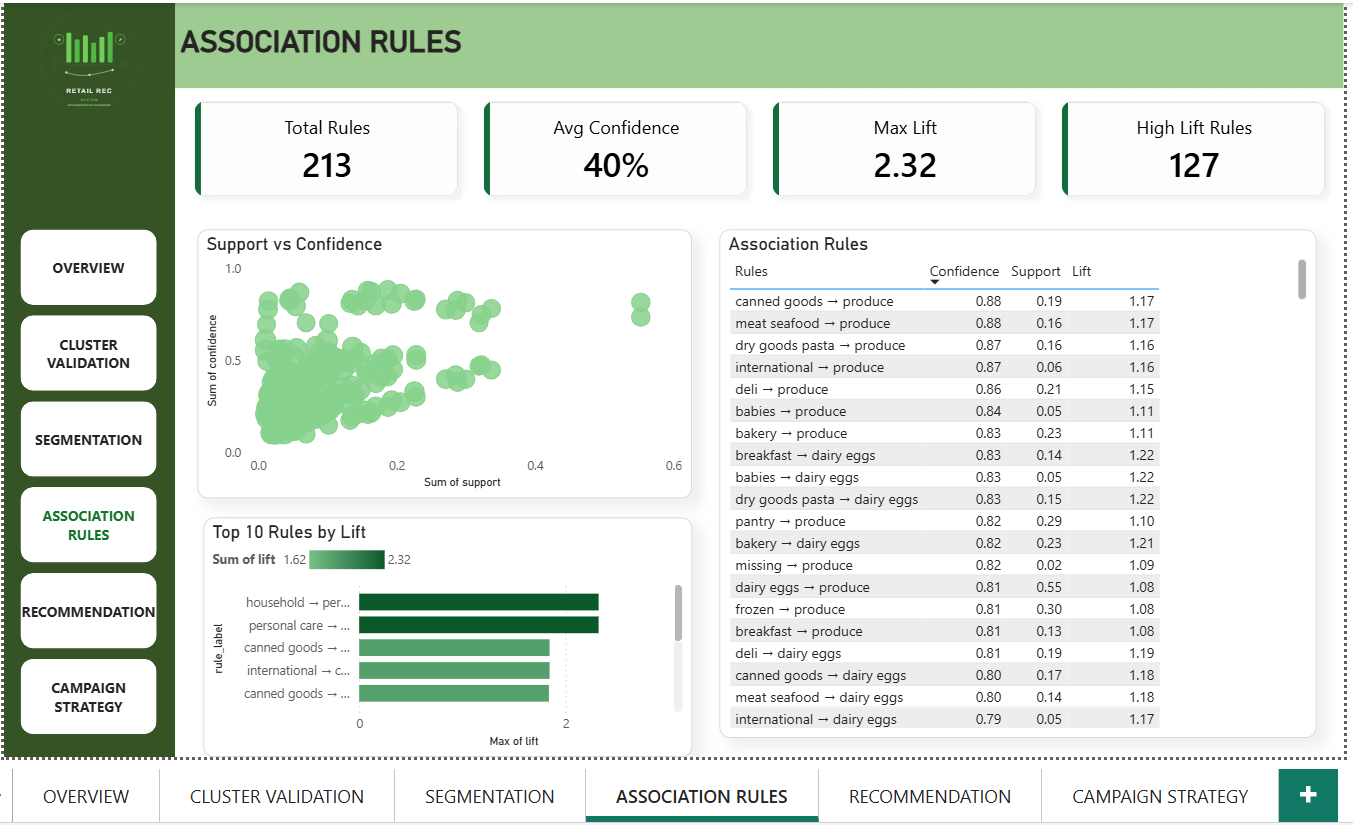

This screenshot's page, from the dashboard's own definition file:
{"tool":"powerbi","page":{"name":"ASSOCIATION RULES","canvas":[1280,720],"ordinal":3},"visuals":[{"type":"shape","box":[0,0,163.3,830],"z":0,"group":"g1"},{"type":"shape","box":[150.4,0,1128.7,81.6],"z":0},{"type":"image","box":[0,0,163.8,107.5],"z":1000,"group":"g1"},{"type":"textbox","box":[162.7,13.6,639.1,76.4],"z":1000},{"type":"group","id":"g1","title":"Group 1","box":[0,0,163.8,830],"z":2000},{"type":"pageNavigator","box":[15.7,215.7,130,482.9],"z":5000},{"type":"cardVisual","fields":{"Data":["measures (2).Total Rules","measures (2).Avg Confidence","measures (2).Max Lift","measures (2).High Lift Rules"]},"box":[164.3,81.4,1115.7,115.7],"z":6000},{"type":"scatterChart","title":"Support vs Confidence","fields":{"X":["Sum(association_rules.support)"],"Y":["Sum(association_rules.confidence)"],"Size":["Sum(association_rules.lift)"],"Category":["association_rules.rule_label"]},"box":[185,216.7,471.7,256.7],"z":6500},{"type":"tableEx","title":"Association Rules","fields":{"Values":["association_rules.rule_label","Sum(association_rules.confidence)","Sum(association_rules.support)","Sum(association_rules.lift)"]},"box":[683.3,216.3,570.1,485.6],"z":6750},{"type":"clusteredBarChart","title":"Top 10 Rules by Lift","fields":{"Category":["association_rules.rule_label"],"Y":["Max(association_rules.lift)"]},"box":[190,491.7,466.7,228.3],"z":7000}]}

Visuals, with their boxes on the page's 1280x720 design canvas (x1, y1, x2, y2). These are canvas units, not pixel positions in the 1353x825 screenshot, which may show the page scaled, cropped or inside an application window:
shape: [0,0,163,830]
shape: [150,0,1279,82]
image: [0,0,164,108]
textbox: [163,14,802,90]
"Group 1" group: [0,0,164,830]
pageNavigator: [16,216,146,699]
cardVisual - measures (2).Total Rules x measures (2).Avg Confidence: [164,81,1280,197]
"Support vs Confidence" scatterChart: [185,217,657,473]
"Association Rules" tableEx: [683,216,1253,702]
"Top 10 Rules by Lift" clusteredBarChart: [190,492,657,720]
